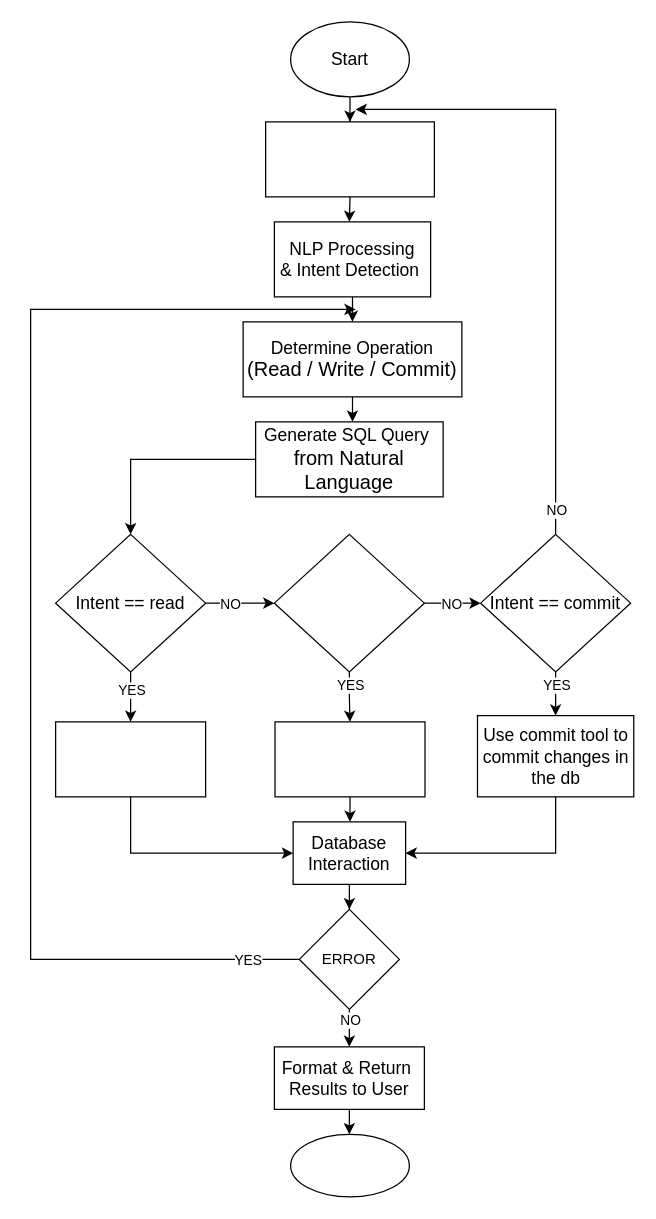
This 656x1219 diagram has some shape labels left out. The box of each missing label's shape, as (x1, y1, x2, y2) in pixels:
End: (289, 1133, 409, 1197)
Intent == write: (273, 533, 424, 672)
Use Read Data tool to retrieve data from db: (54, 721, 206, 797)
Use Write data tool to write data to db: (274, 721, 425, 797)
User Enters Input in natural language: (264, 121, 434, 197)
